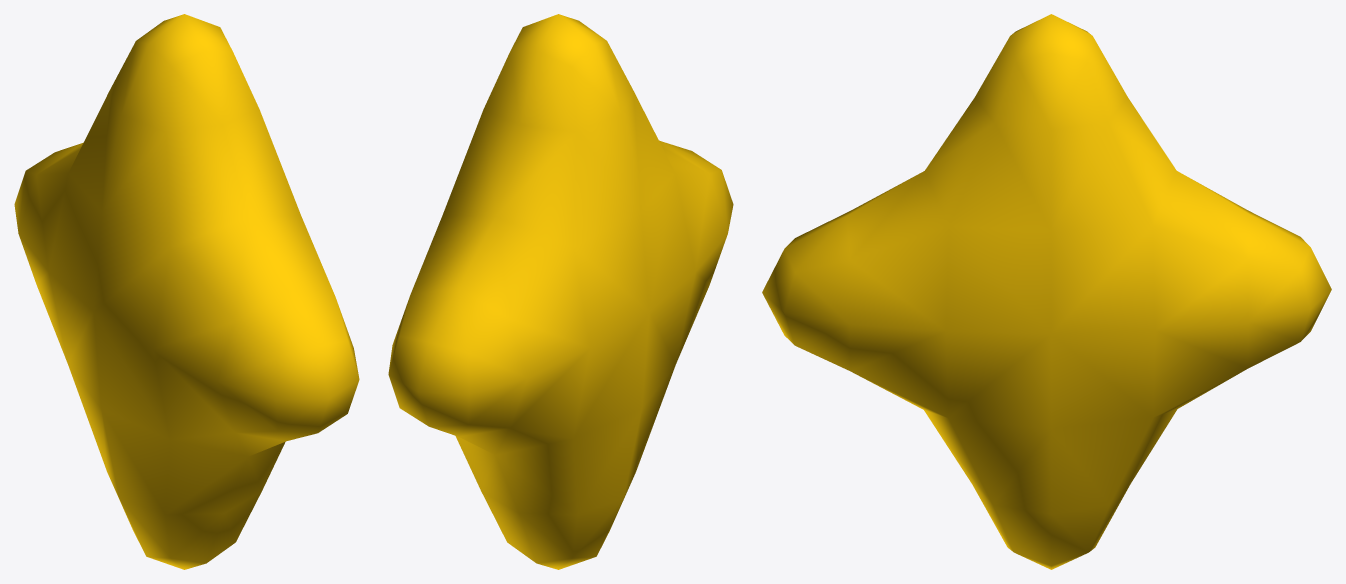
3 views of the same model, side by side, from view 1: azimuth 30°, elevation 25°; view 2: azimuth 150°, elevation 25°; view 3: azimuth 270°, elevation 25° (orthographic).
Visible parts, largest first — view 1: 立方体; view 2: 立方体; view 3: 立方体.
Part boxes in pixels (x1=…): 立方体: x1=14, y1=14, x2=359, y2=569; 立方体: x1=388, y1=14, x2=733, y2=569; 立方体: x1=762, y1=14, x2=1331, y2=569.
Size of the model in its own units: 1.63 by 4.77 by 4.44.
Materials: 1 (1 with a texture image).
